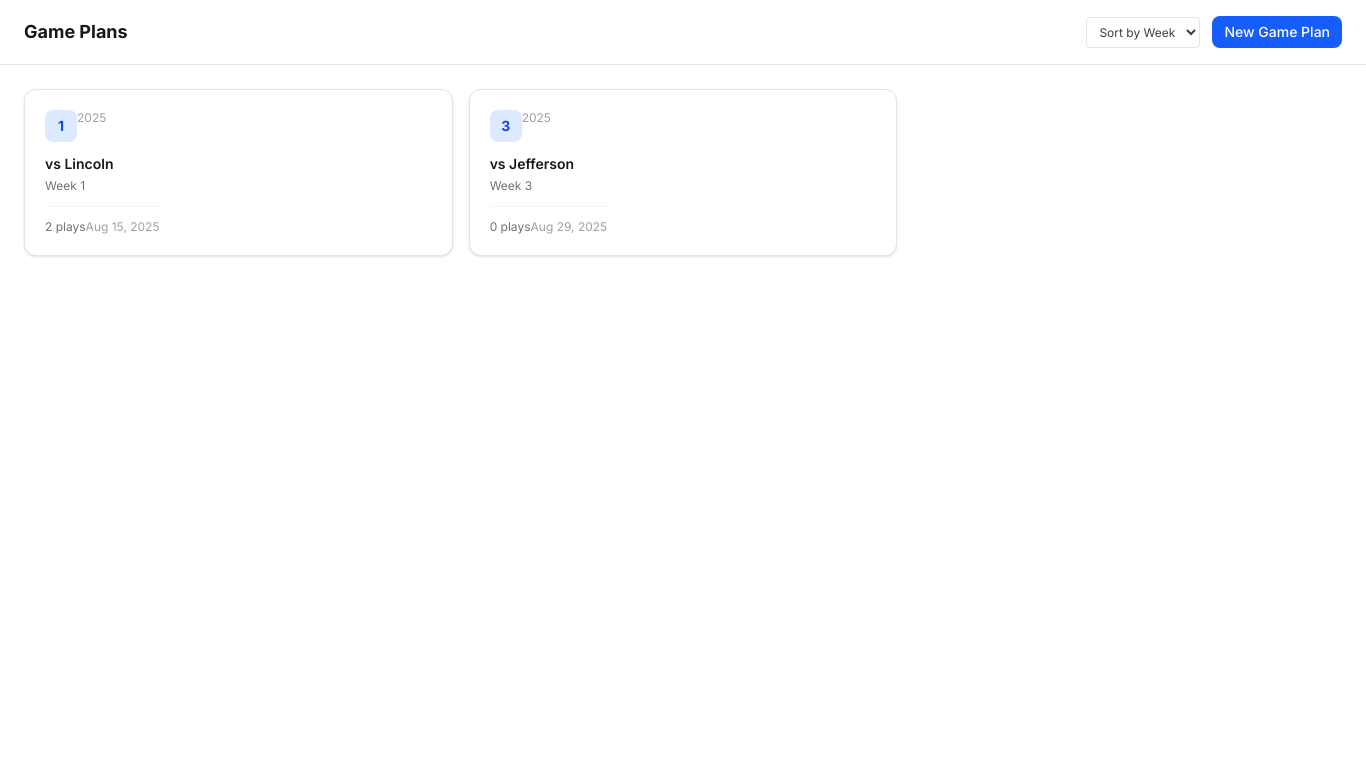
Scenario: GamePlanListPage › cancels modal creation
Click the button with test id "new-gameplan-btn" at (1277, 32), box [1212,16,1342,48]
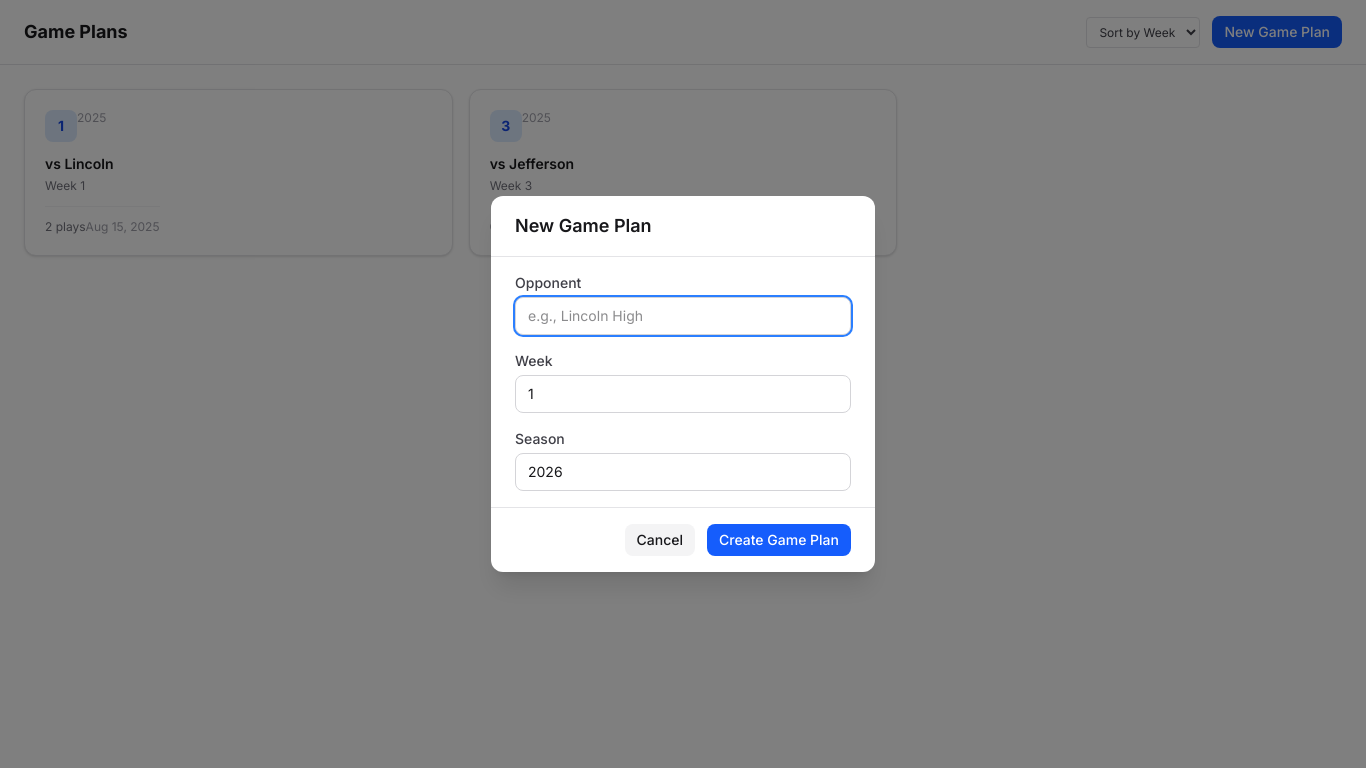
Expected: the field with test id "opponent-input" is shown, [515,297,851,335]
Click the button with test id "cancel-create-btn" at (660, 540), box [624,524,695,556]
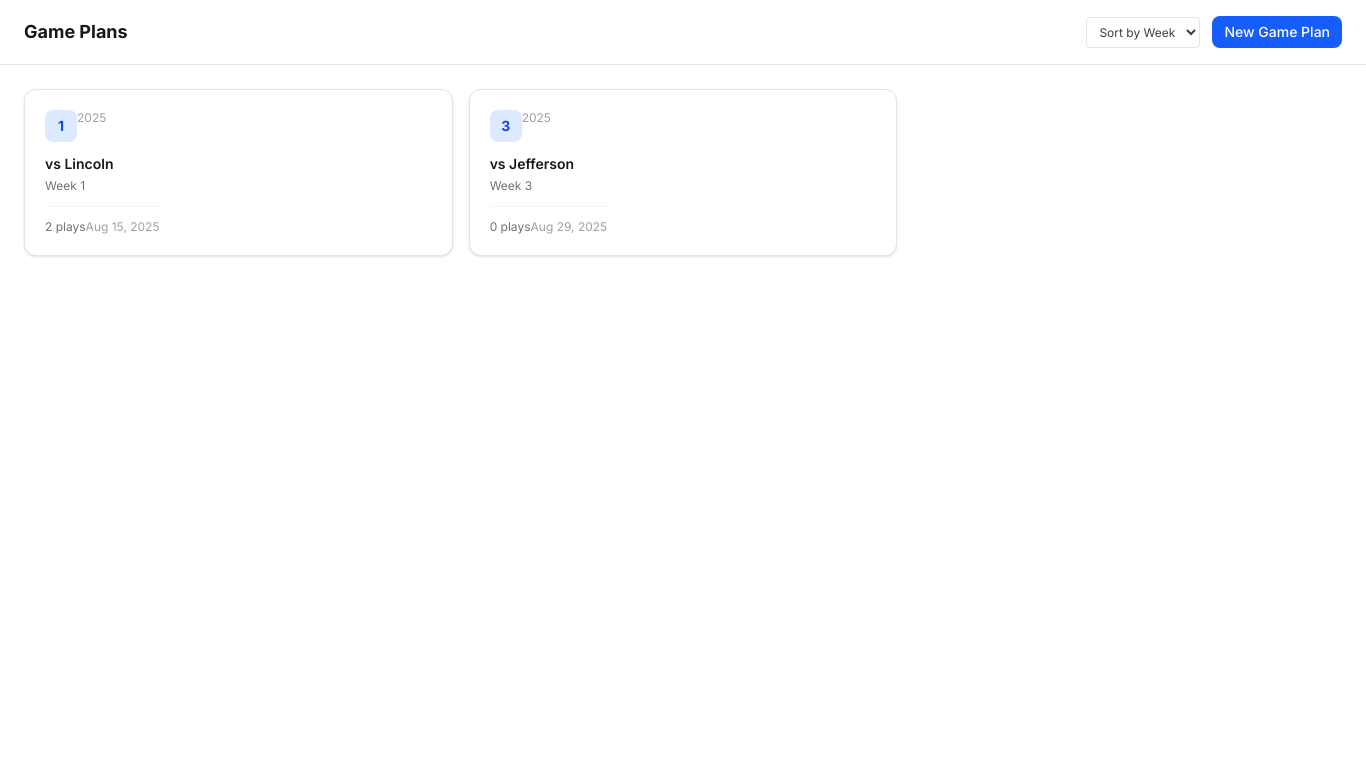
Expected: the field with test id "opponent-input" is gone
